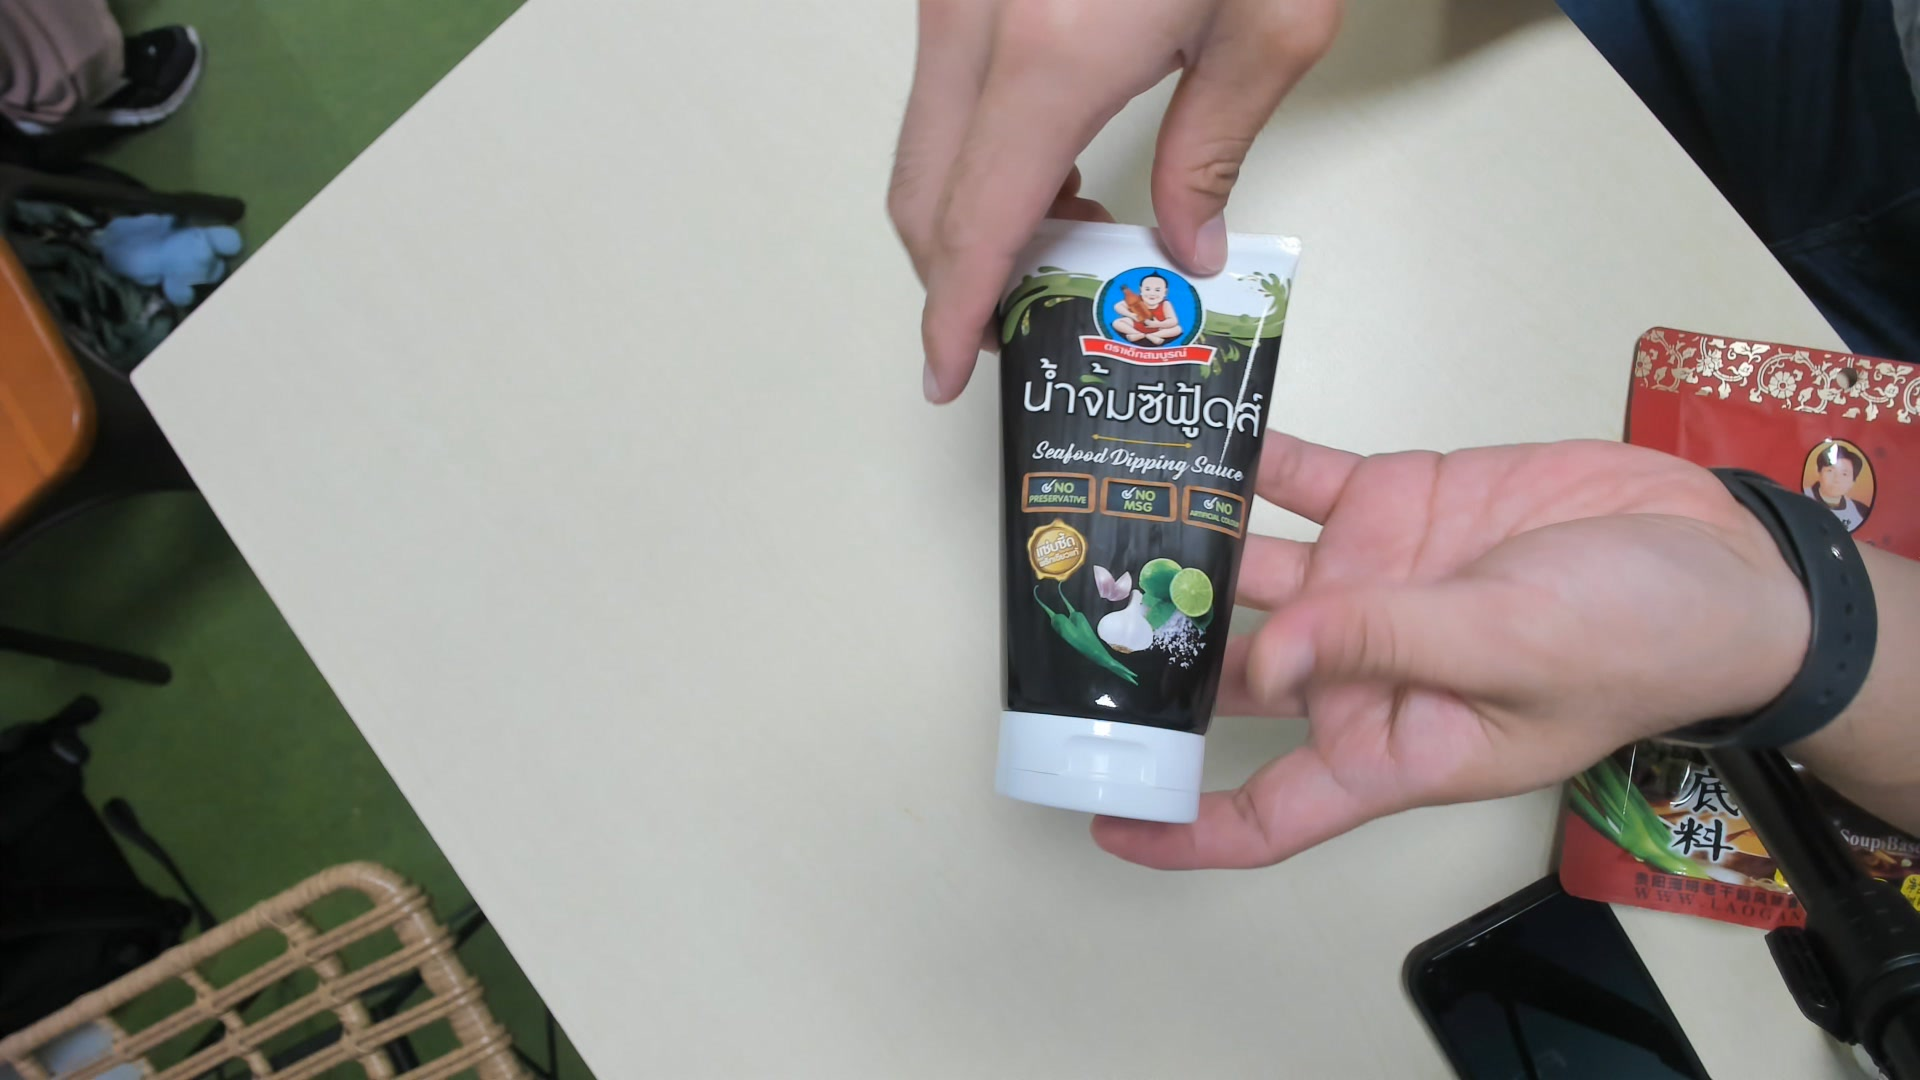OtherSauceDressing_100-199g_NonHalal_NonHealthy: (993, 231, 1292, 828)
